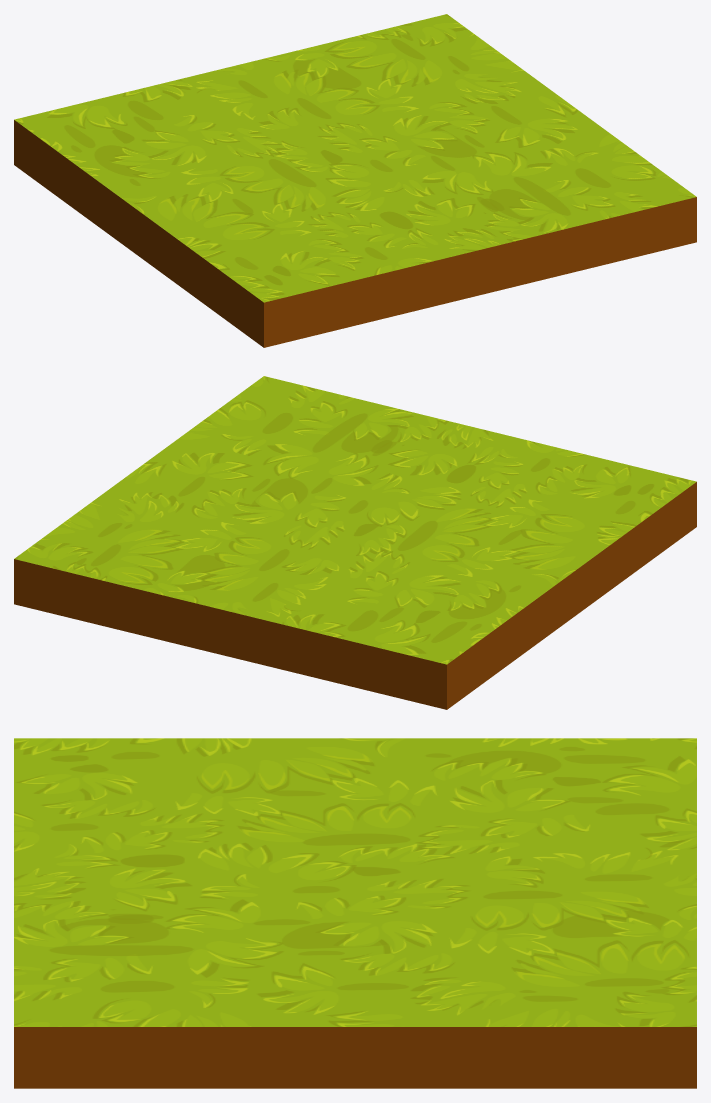
File: tile0001.gltf
3 renders of one model, top to bottom at view 1: azimuth 30°, elevation 25°; view 2: azimuth 150°, elevation 25°; view 3: azimuth 270°, elevation 25°, orthographic. The views are drawn at different scales.
Parts seen in each view (by area): view 1: Cube; view 2: Cube; view 3: Cube.
Boxes of the visible parts, x1,y1,x2,y2 form: Cube: [14, 14, 696, 347]; Cube: [14, 376, 696, 709]; Cube: [14, 738, 696, 1088].
Size of the model in its own units: 2 by 0.2 by 2.
Materials: 2 (1 with a texture image).
